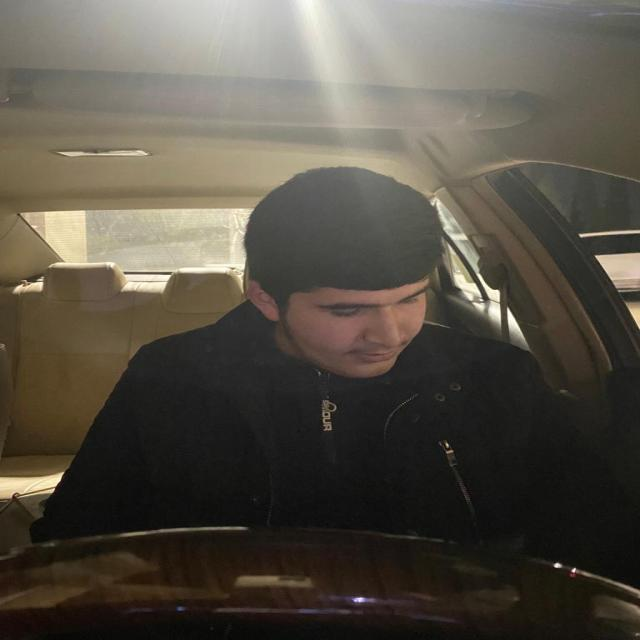drowsy: (239, 163, 447, 380)
